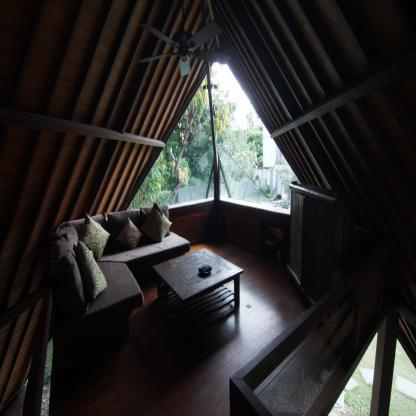bantal: (76, 243, 109, 297), (82, 219, 109, 258), (142, 207, 169, 243), (117, 219, 140, 251)
sova: (51, 207, 189, 348)
tanaman: (151, 245, 244, 334)
